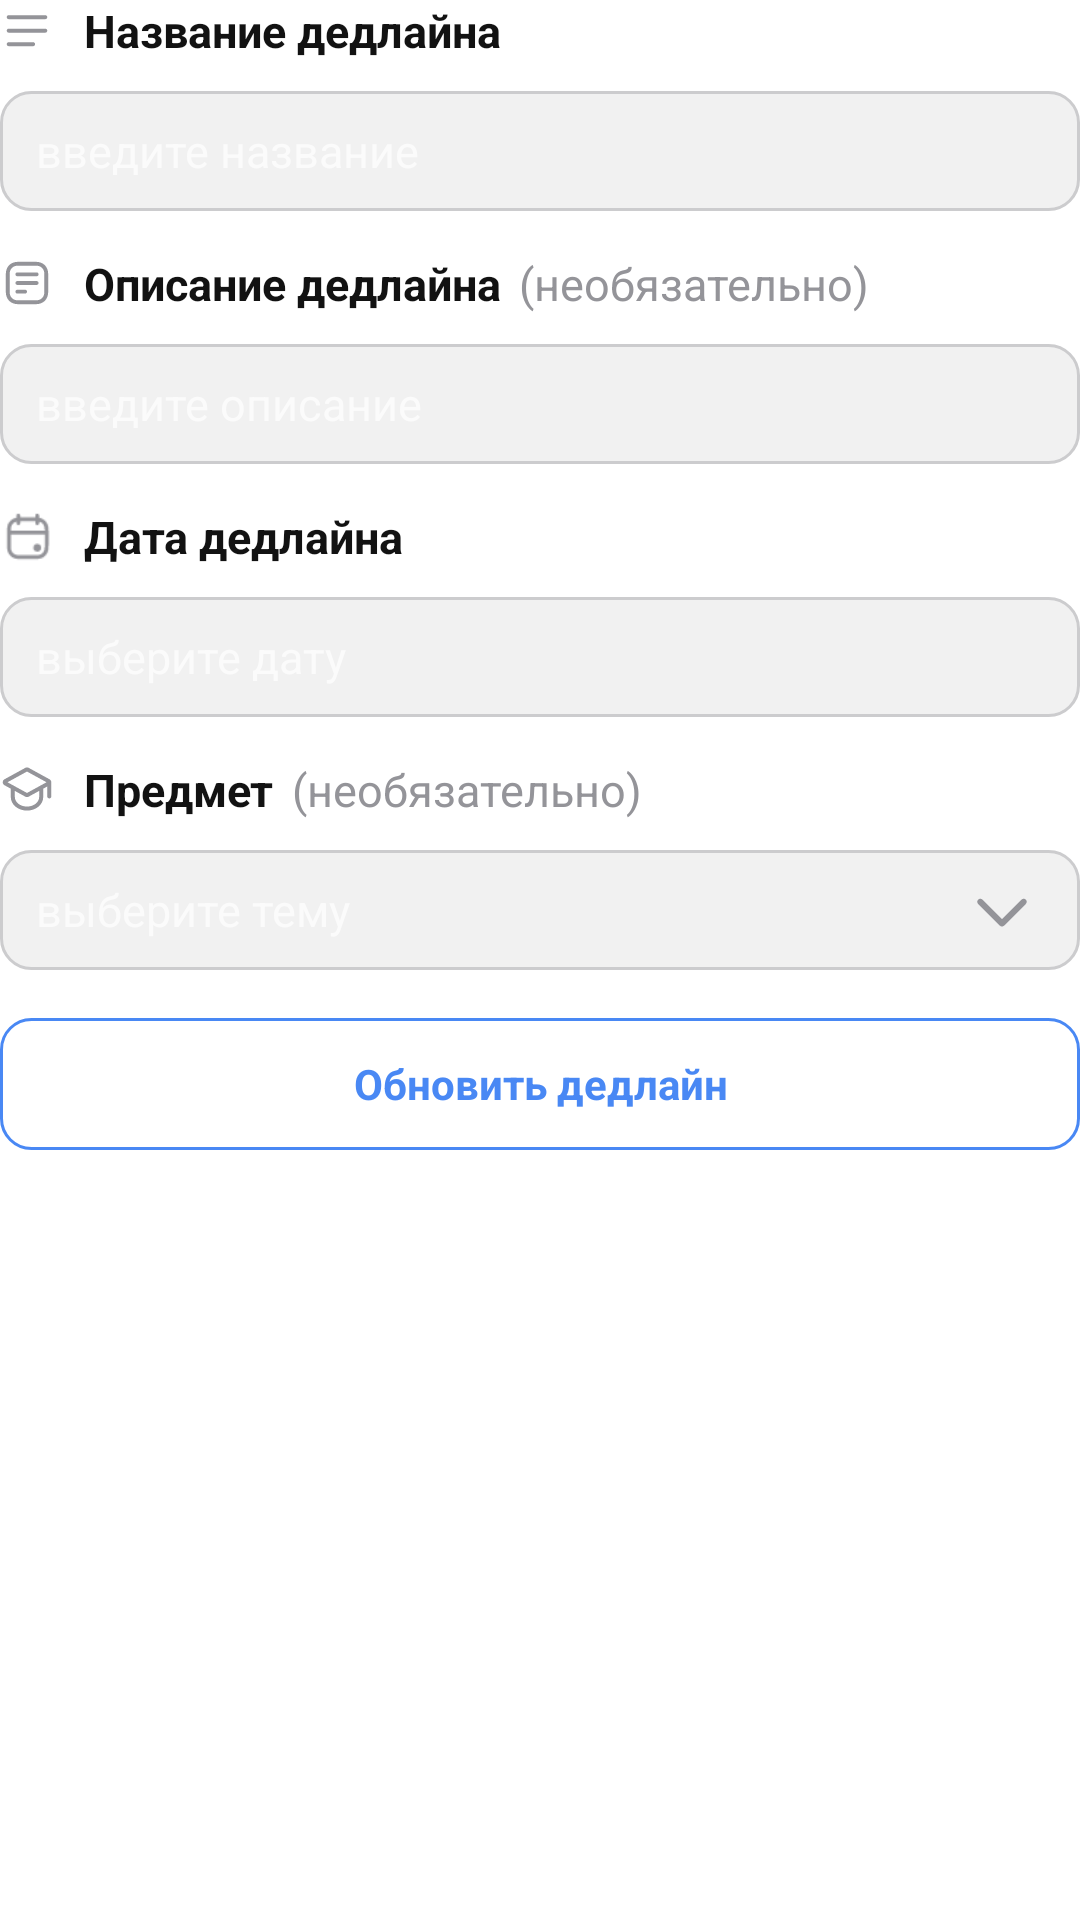

Icons on this 1080 x 1920 Android screen, each with the point to tap as (x=x, y=y):
academic cap: (x=27, y=789)
article: (x=27, y=31), (x=27, y=283)
